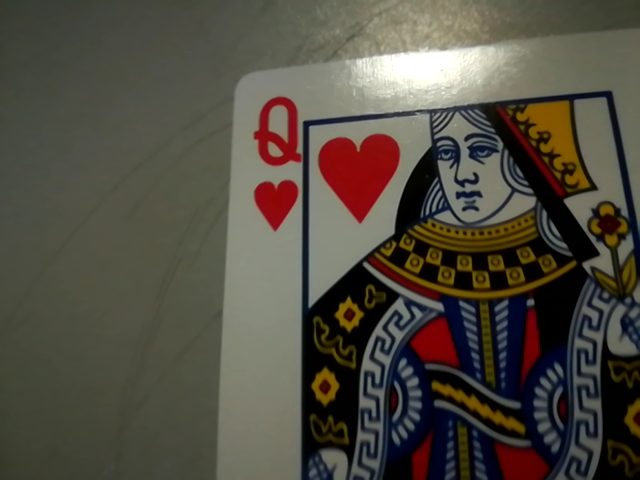hx q: (241, 92, 308, 235)
